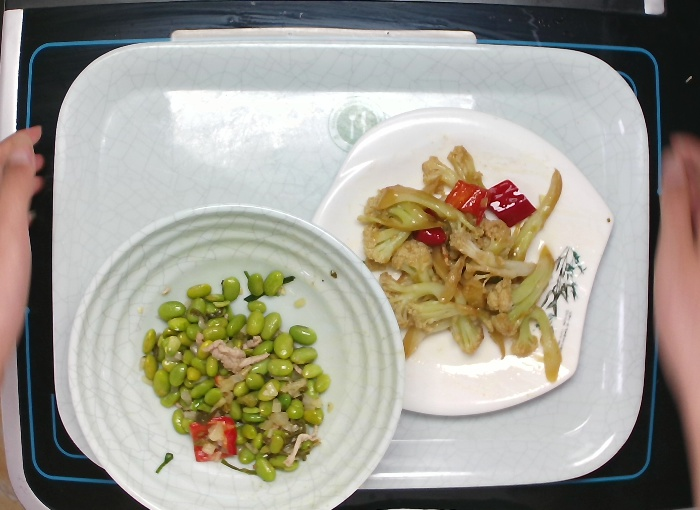JYsf-Da_Tang_Wan: (64, 199, 412, 510)
JYsf-Mian_Pan: (306, 107, 618, 421)
